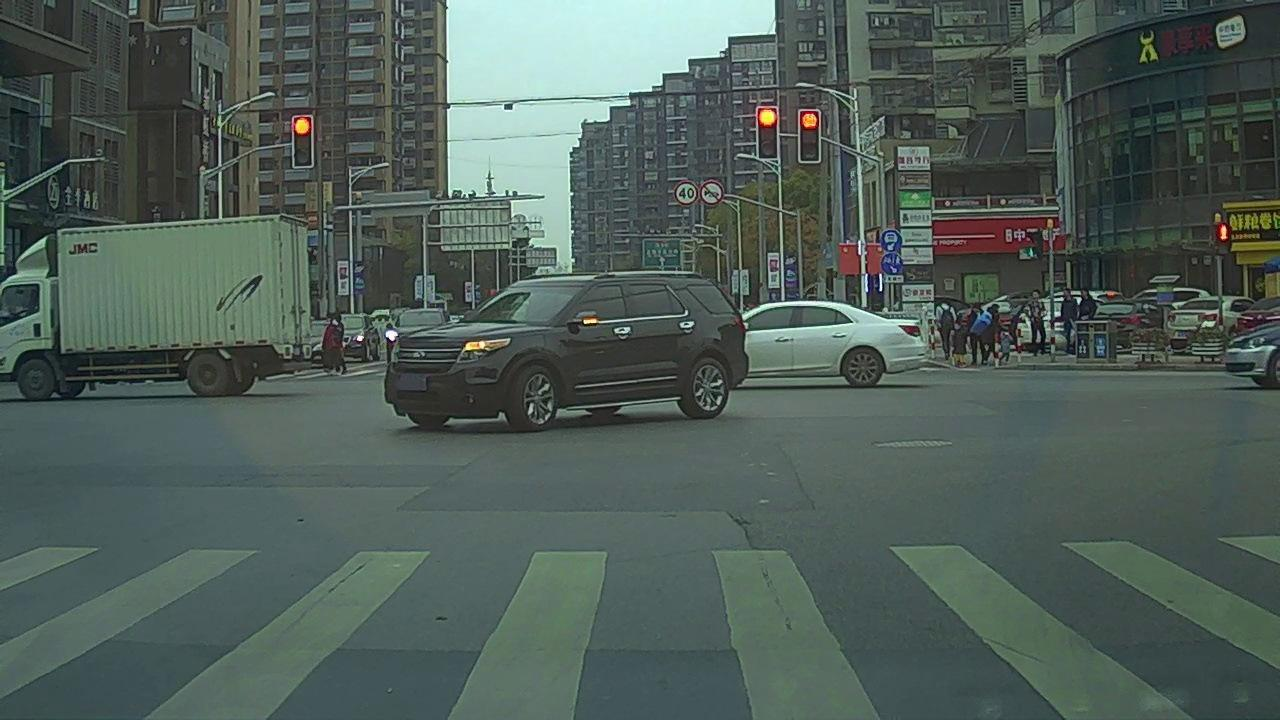traffic_light: (290, 115, 316, 169), (798, 109, 822, 165), (756, 107, 780, 158)
